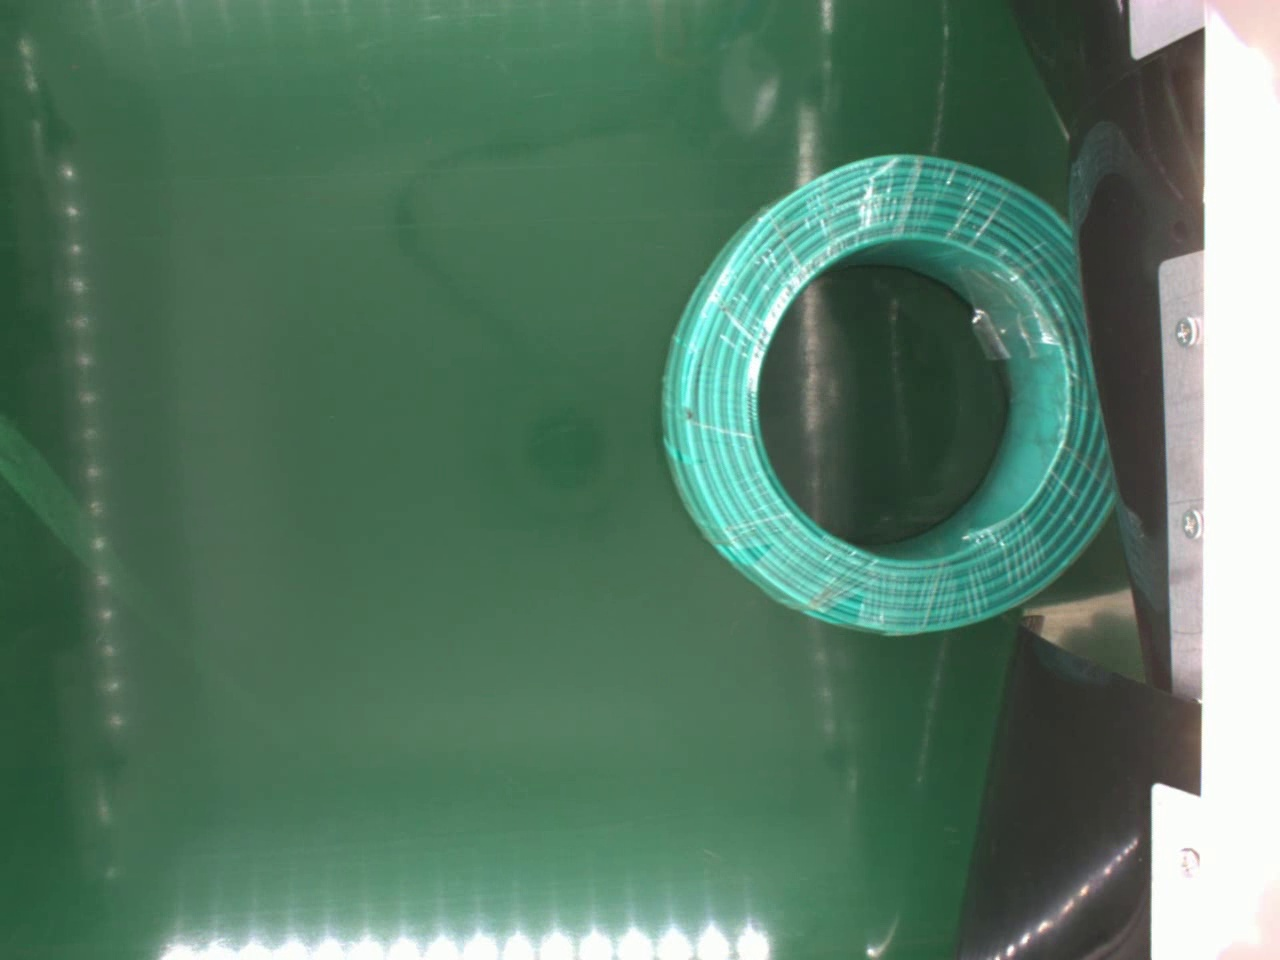green: (653, 152, 1119, 634)
